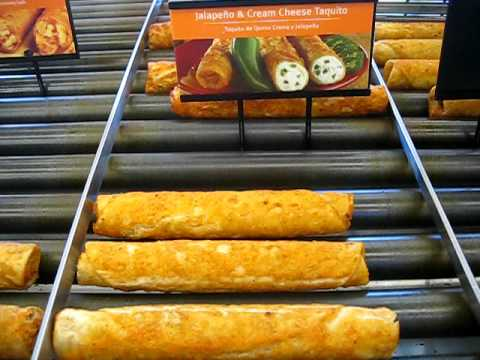cheese: (51, 306, 409, 358), (65, 239, 373, 293), (91, 188, 364, 238)
